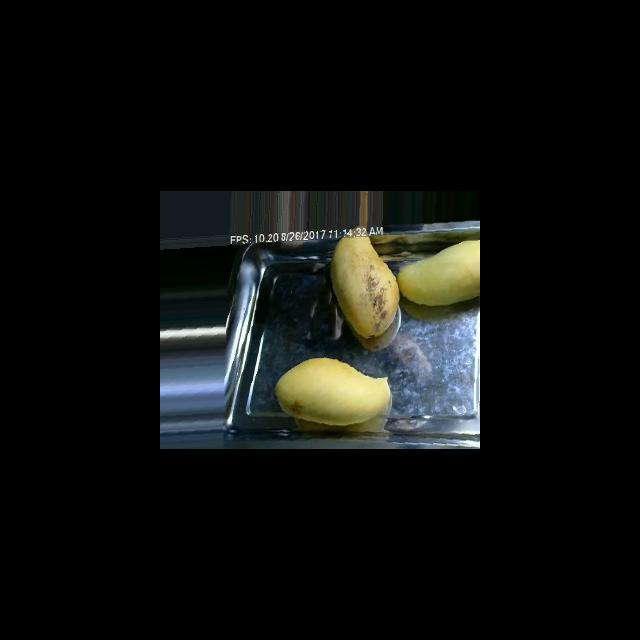Mango: (274, 356, 392, 426), (329, 228, 400, 339), (396, 238, 479, 306)
